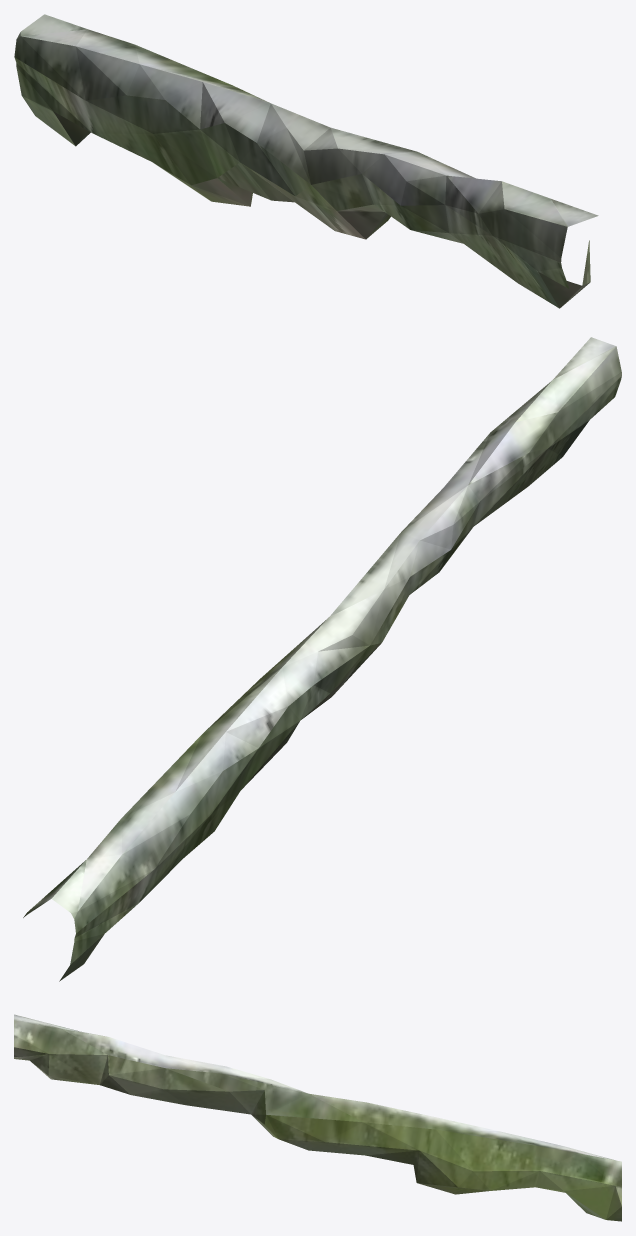
The picture shows the model from 3 angles, top to bottom: view 1: azimuth 30°, elevation 25°; view 2: azimuth 150°, elevation 25°; view 3: azimuth 270°, elevation 25°; orthographic projection. The views are drawn at different scales.
Size of the model in its own units: 0.3846 by 0.9801 by 2.95.
1 material, 1 textured.
